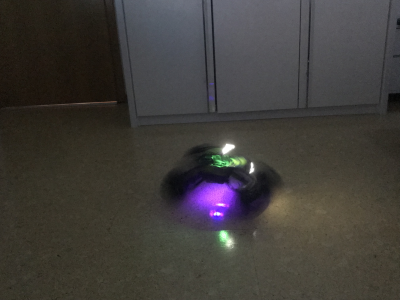remote control car: (158, 142, 286, 219)
